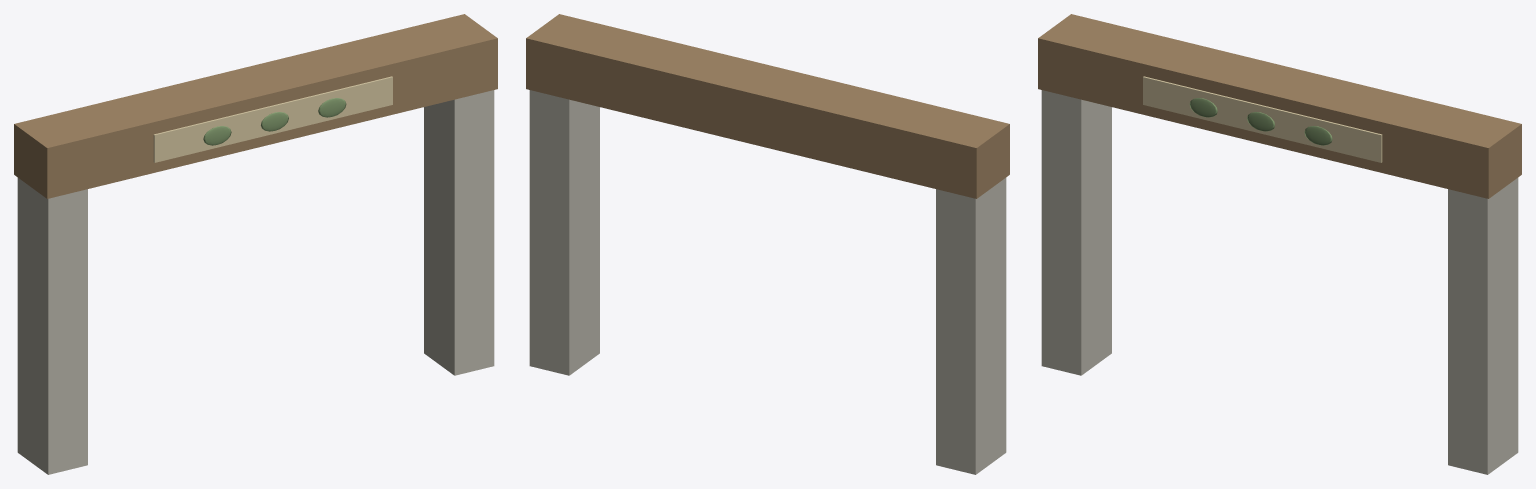
Rendered from zoo-and-safari-park-builder-entrance-arch-37c45f9a__21518.glb.
The picture shows the model from 3 angles, left to right: view 1: azimuth 30°, elevation 25°; view 2: azimuth 150°, elevation 25°; view 3: azimuth 330°, elevation 25°; orthographic projection.
Visible parts, largest first — view 1: entrance-arch; view 2: entrance-arch; view 3: entrance-arch.
Part boxes in pixels (x1,y1,x2,y2): entrance-arch: (14,14,497,474); entrance-arch: (526,14,1009,474); entrance-arch: (1038,14,1521,474).
Bounding box in the file's own units: 5.1 × 3.55 × 0.71.
